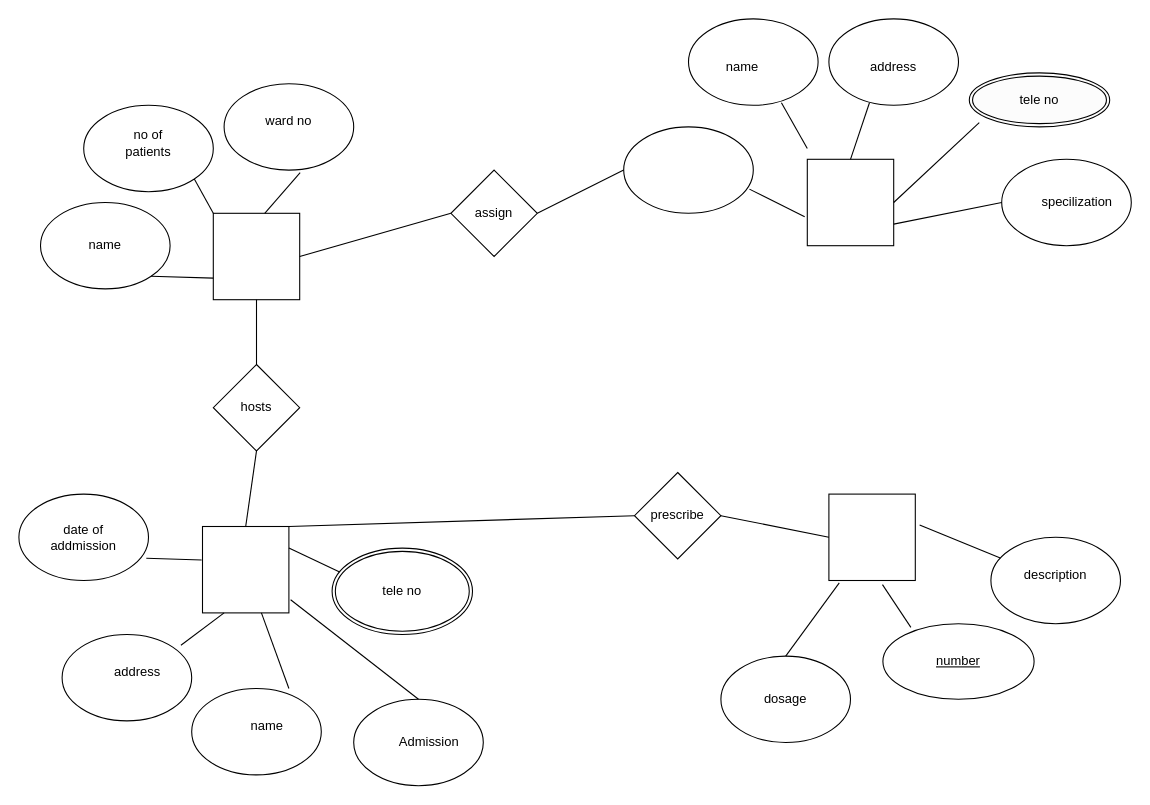
This 1150x805 diagram has some shape labels left out. The shapes that lost their labels are listed below. From the top down, each one's centre as x and y in pixels, then its label:
At point 688,169: "id".
At point 850,202: "doctor".
At point 256,256: "Ward".
At point 871,536: "treatment".
At point 245,569: "Patients".
